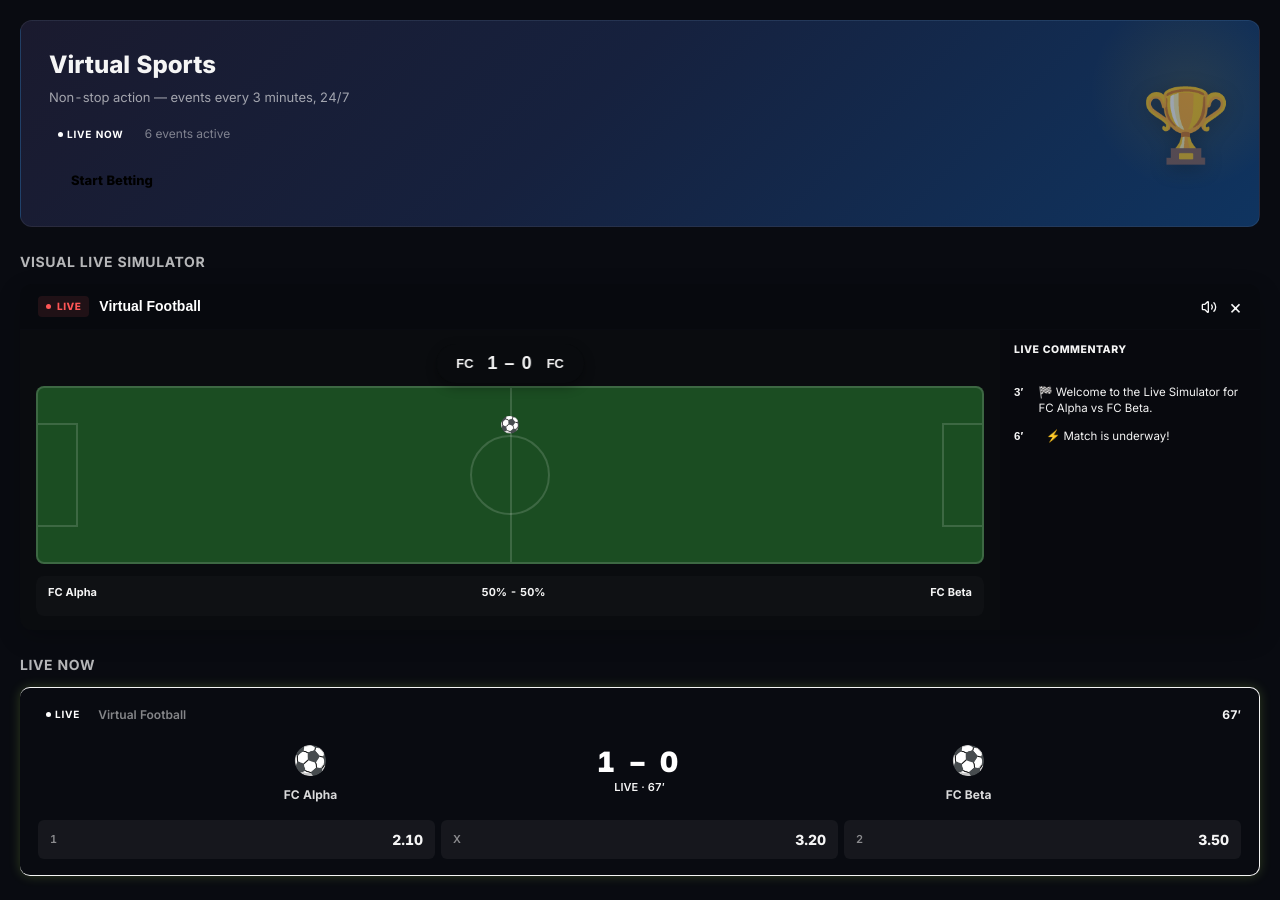
Test: Virtuals Component › Toast Messages › replaces previous toast when new toast is shown
Note: Show first toast
Click the button "Start Betting" at x=112, y=180, box [49,160,175,200]
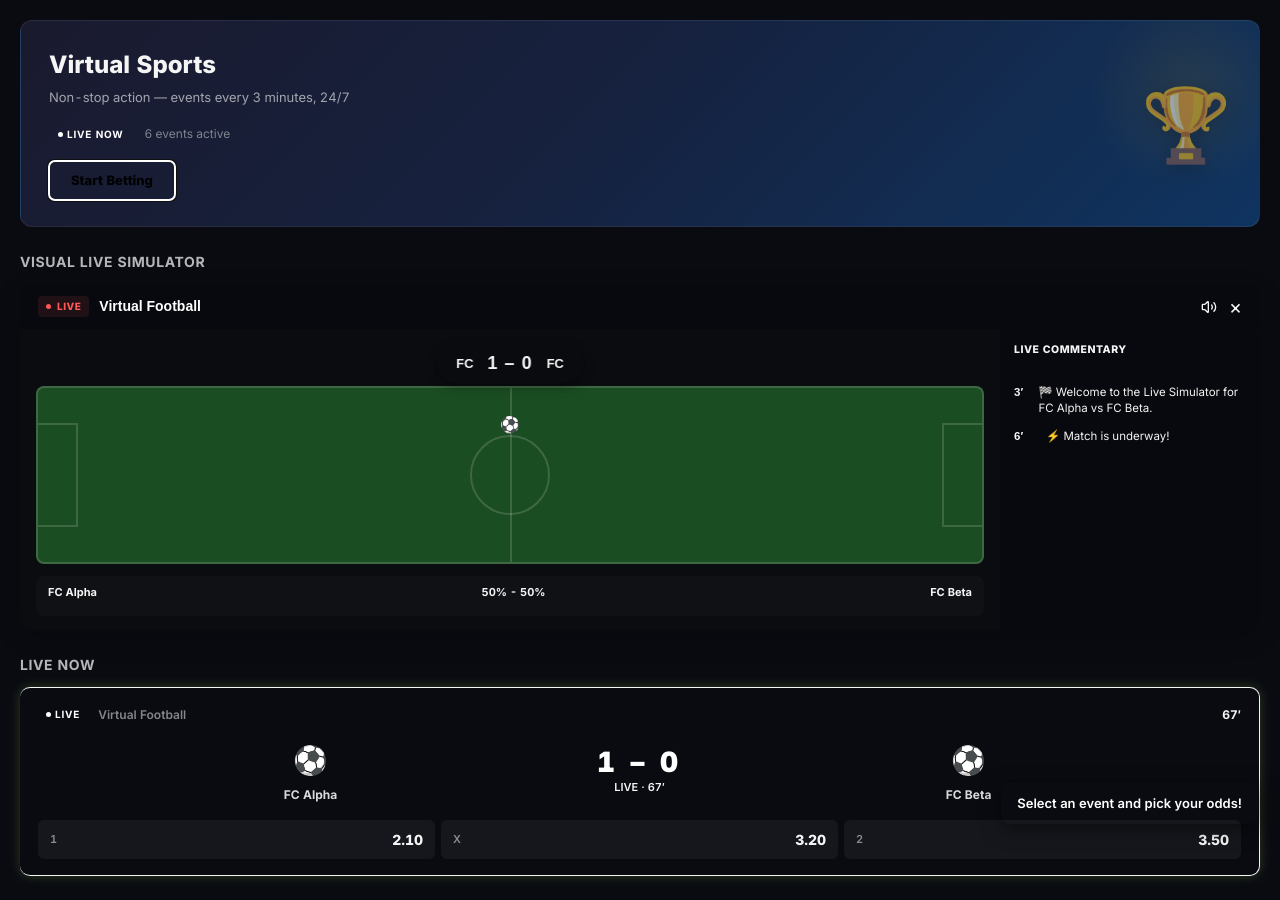
Now the text "Select an event and pick your odds!" is shown, box [1001,782,1258,824]
Note: Show second toast by clicking odds
Click the button "1 2.10" at x=408, y=840, box [38,820,435,859]
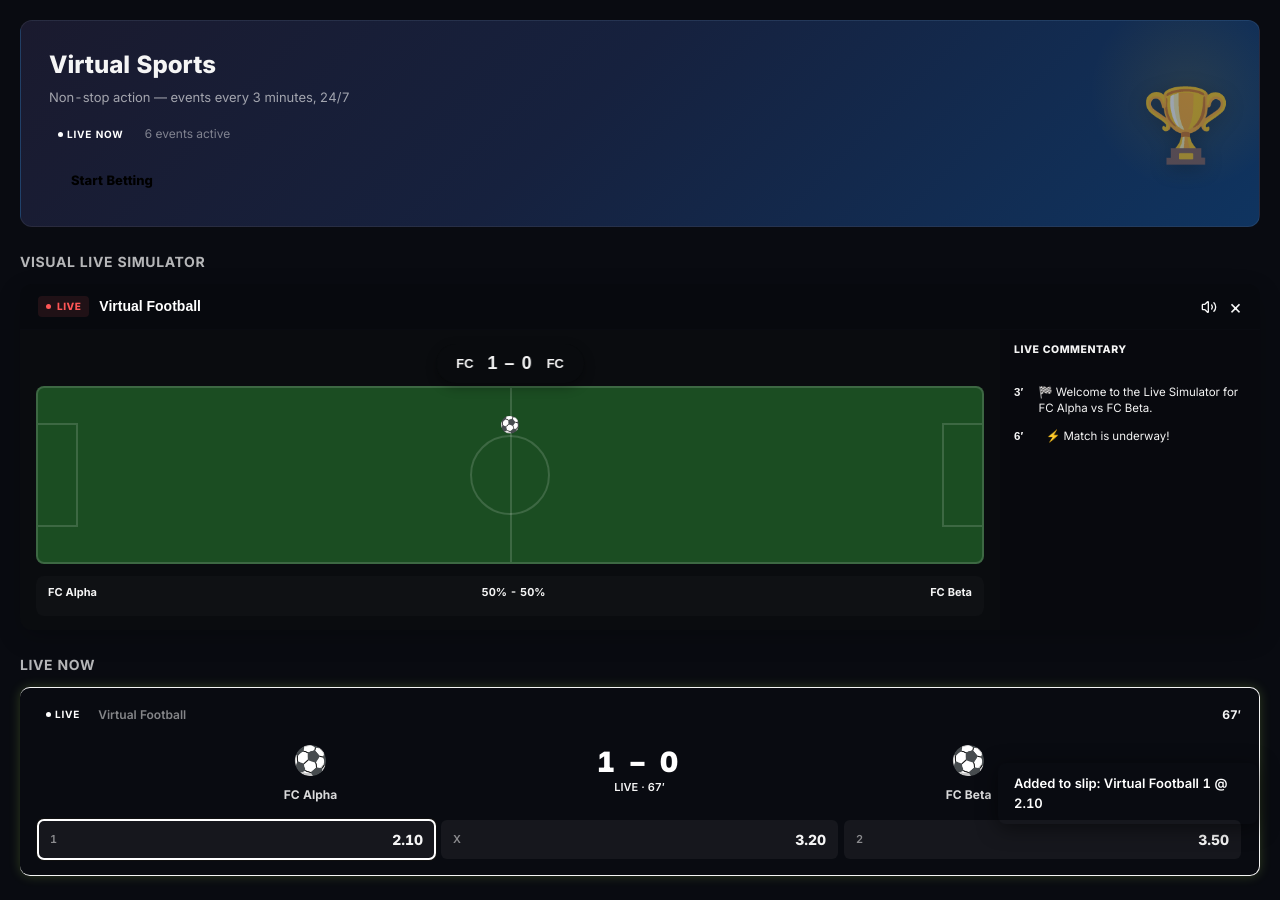
Now the text "Added to slip: Virtual Football 1 @ 2.10" is shown, box [998,763,1258,824]
Now the text "Select an event and pick your odds!" is gone
